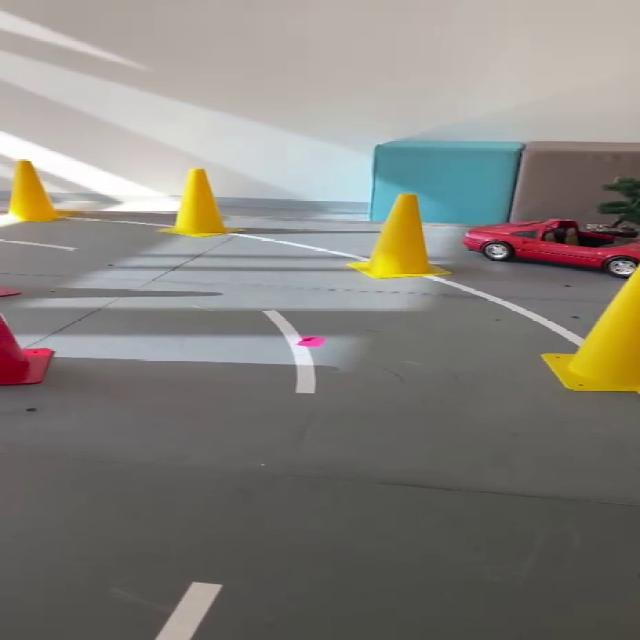Cone-red: (0, 315, 52, 385)
Cones-yellow: (542, 269, 639, 392), (350, 194, 447, 278), (164, 169, 234, 236), (7, 160, 68, 222)
